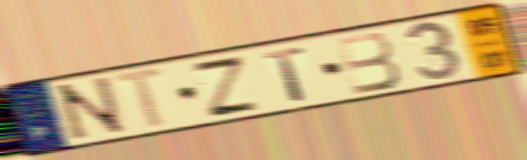3: (403, 18, 465, 85)
B: (333, 30, 404, 97)
N: (52, 74, 132, 145)
T: (111, 64, 172, 132), (260, 44, 309, 103)
Z: (186, 54, 265, 119)
